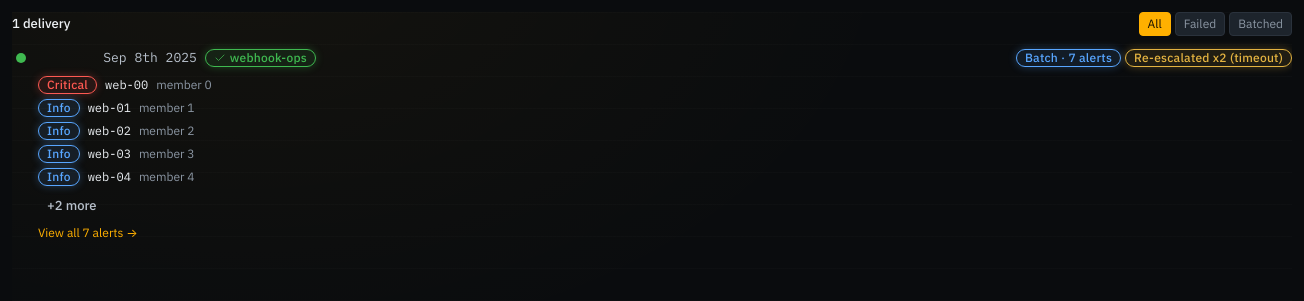
Scenario: DeliveryTimeline › shows the first five alerts and expands the rest inline
Check: the text "member 0" is shown, box [156, 77, 212, 92]
Check: the text "member 6" is not shown
Step 1. Click the button "+2 more" → (72, 206), box [38, 192, 106, 220]
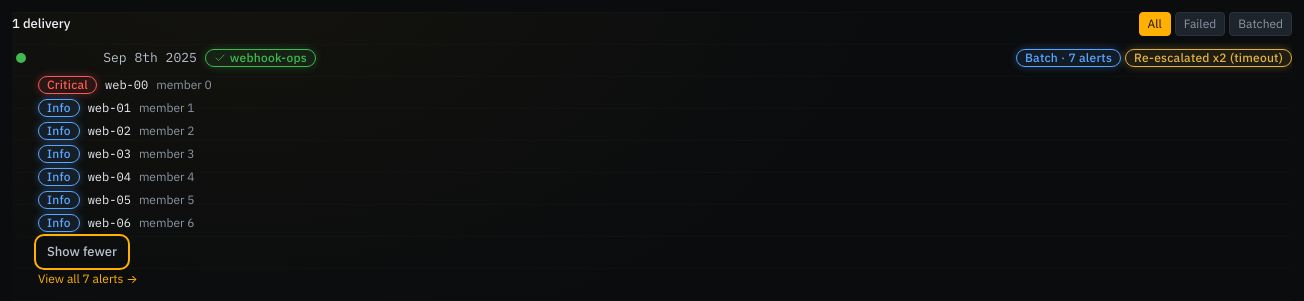
Check: the text "member 6" is shown, box [139, 215, 194, 230]
Check: the button "Show fewer" is shown, box [38, 238, 126, 266]
